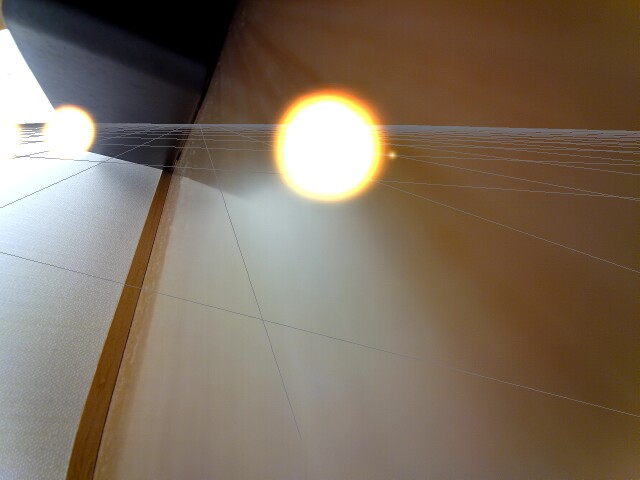firebig: (253, 73, 417, 222)
